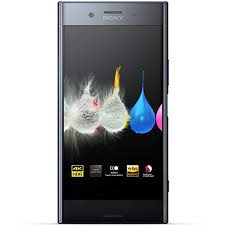sony: (51, 1, 172, 223)
